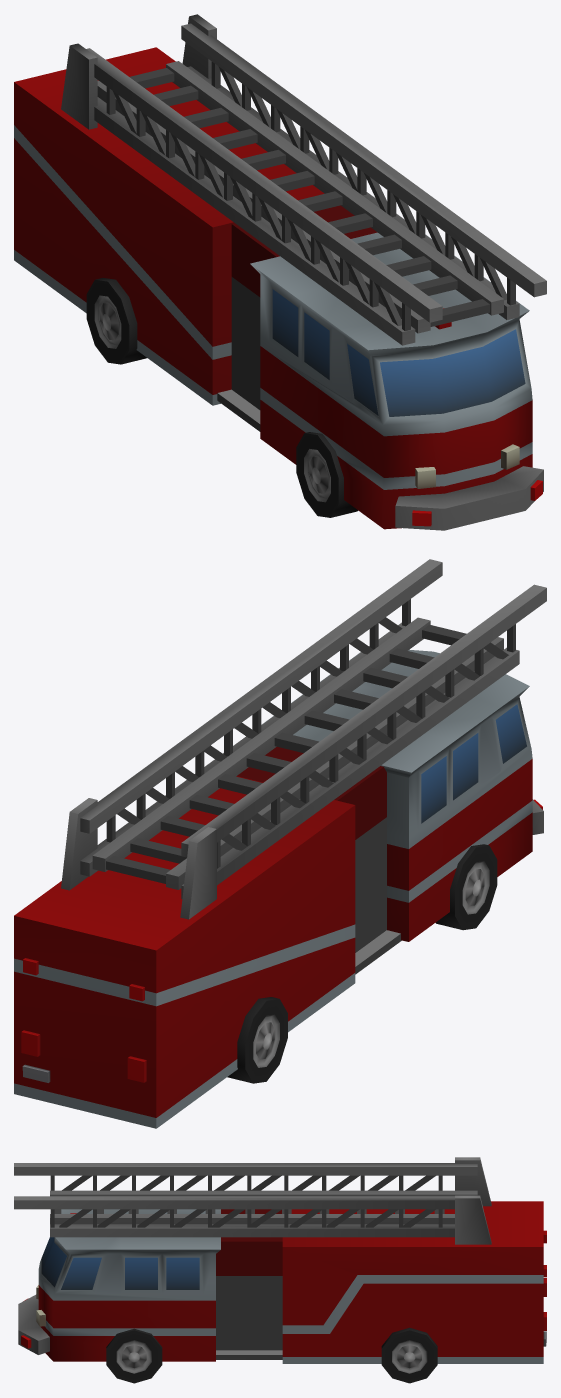
3 renders of one model, top to bottom at view 1: azimuth 30°, elevation 25°; view 2: azimuth 150°, elevation 25°; view 3: azimuth 270°, elevation 25°, orthographic. The views are drawn at different scales.
Parts seen in each view (by area): view 1: refl.144; view 2: refl.144; view 3: refl.144.
Part boxes in pixels (x1,y1,x2,y2): refl.144: (14, 14, 546, 530); refl.144: (14, 559, 546, 1128); refl.144: (14, 1157, 546, 1383).
Size of the model in its own units: 0.117 by 0.1865 by 0.5.
